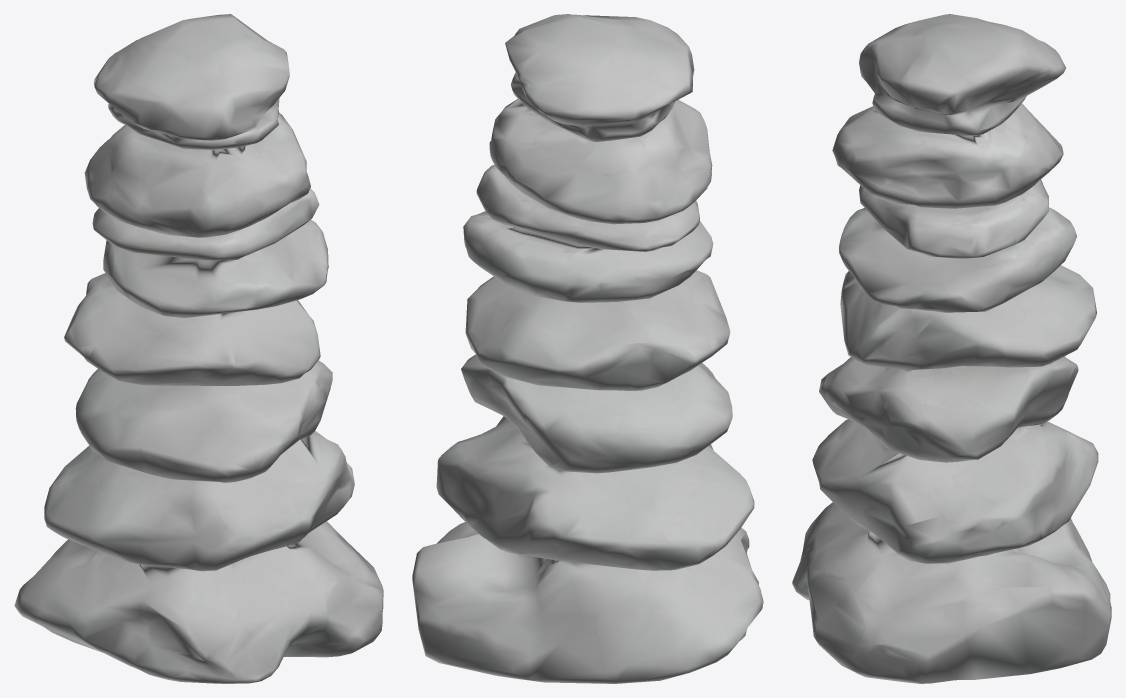
Rendered from cairn.glb.
The picture shows the model from 3 angles, left to right: view 1: azimuth 30°, elevation 25°; view 2: azimuth 150°, elevation 25°; view 3: azimuth 270°, elevation 25°; orthographic projection. The views are drawn at different scales.
Parts seen in each view (by area): view 1: 0; view 2: 0; view 3: 0.
Part boxes in pixels (<box>): 0: <box>14,14,383,683</box>; 0: <box>412,14,763,683</box>; 0: <box>792,14,1111,683</box>.
Bounding box in the file's own units: 1.06 × 1.91 × 0.9354.
Materials: 1 (1 with a texture image).
